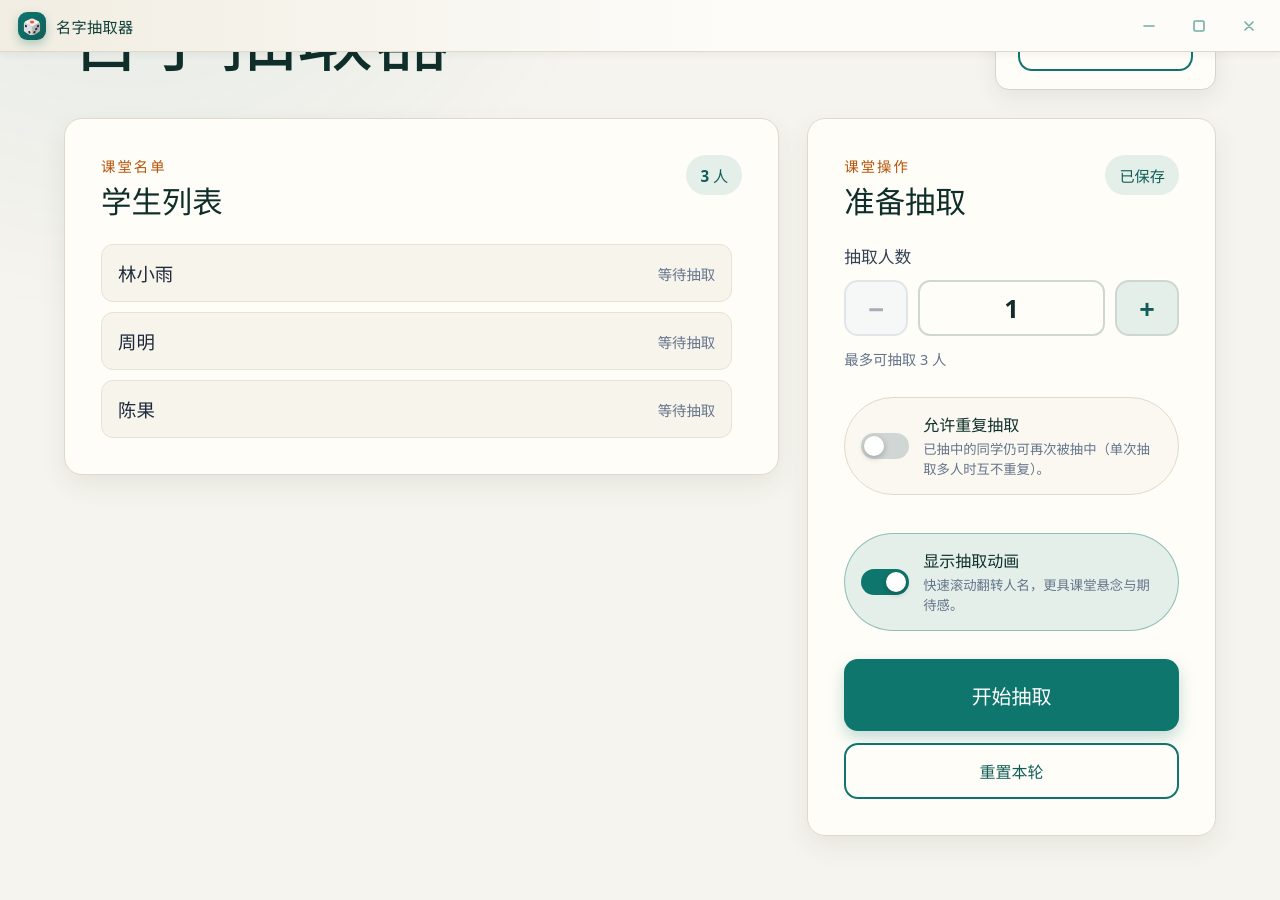
Scenario: 课堂主界面 › 动画前后保持同一批抽取学生
This screenshot has width=1280, height=900.
(page scrolled)
Click the button "开始抽取". click: (1012, 695)
box: [844, 659, 1179, 731]
Wait 100 ms
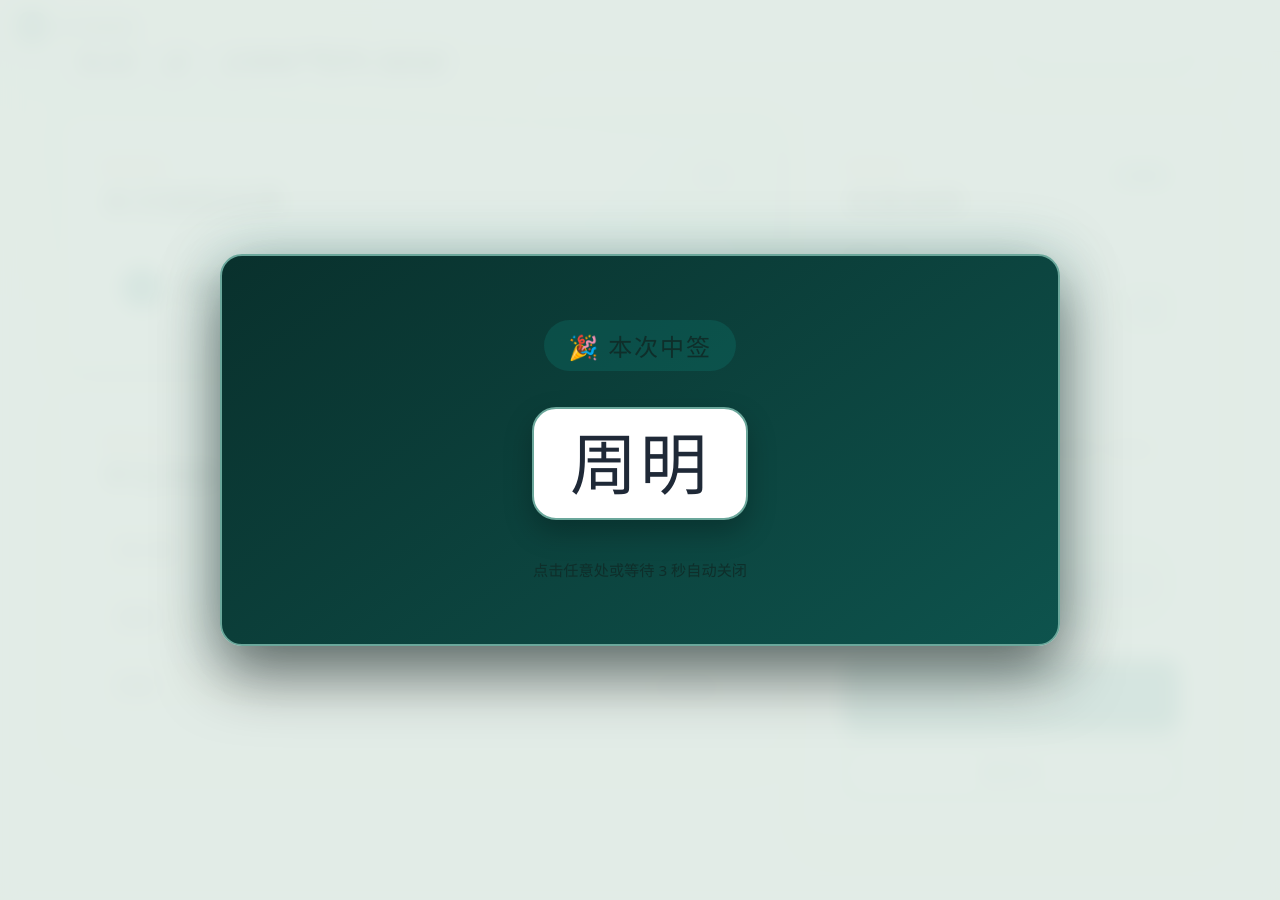
Expected: the text "周明" below "本次抽取结果" is shown, [180, 268, 244, 312]
